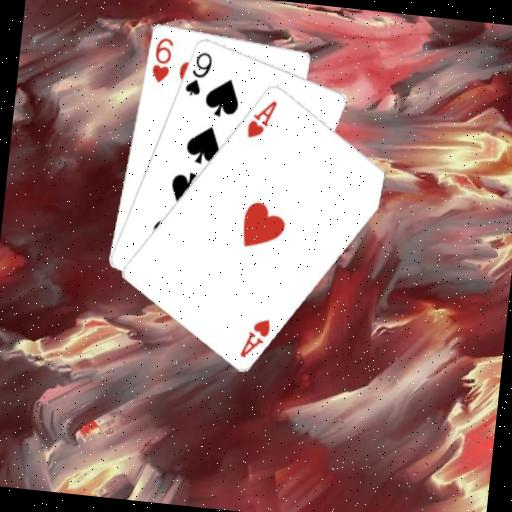6H: (147, 33, 176, 85)
9S: (181, 46, 215, 99)
AH: (243, 95, 280, 143), (236, 313, 273, 361)
